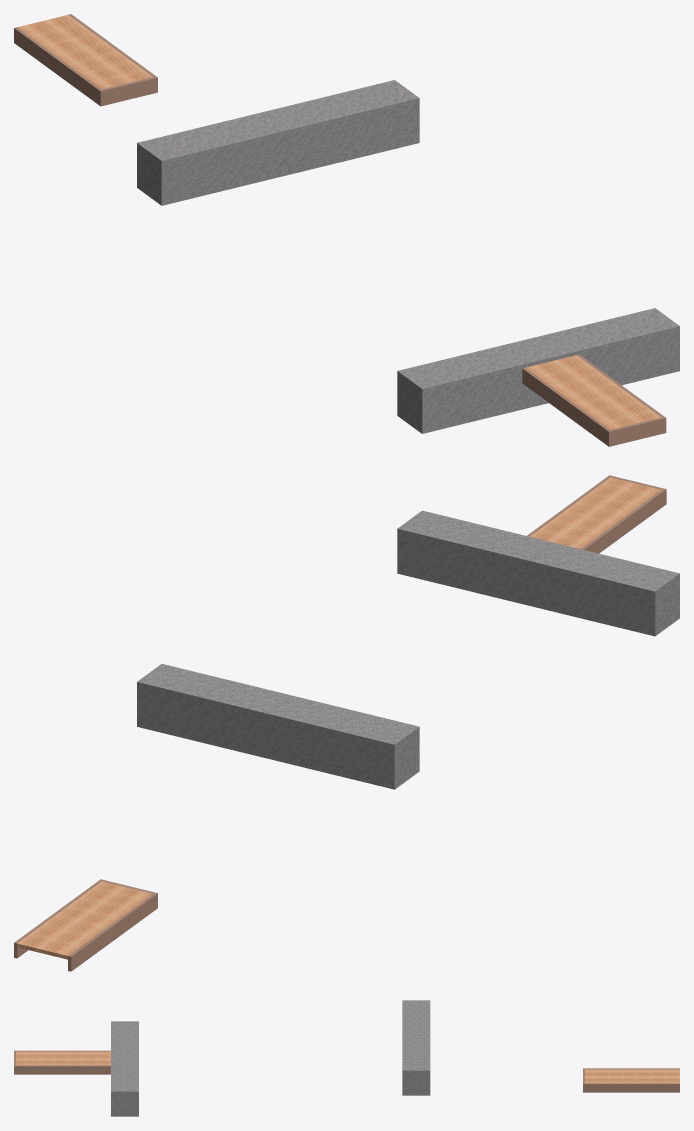
3 views of the same model, one above another, from view 1: azimuth 30°, elevation 25°; view 2: azimuth 150°, elevation 25°; view 3: azimuth 270°, elevation 25° (orthographic). The views are drawn at different scales.
Parts seen in each view (by area): view 1: 0_0_2_1_2_2_3_2; view 2: 0_0_2_1_2_2_3_2; view 3: 0_0_2_1_2_2_3_2.
Part boxes in pixels (box(x1,y1,x2,y2)): 0_0_2_1_2_2_3_2: box(14, 14, 679, 446); 0_0_2_1_2_2_3_2: box(14, 475, 679, 971); 0_0_2_1_2_2_3_2: box(14, 1000, 679, 1116).
Bounding box in the file's own units: 3.6 × 1.17 × 14.4.
Materials: 6 (4 with a texture image).
